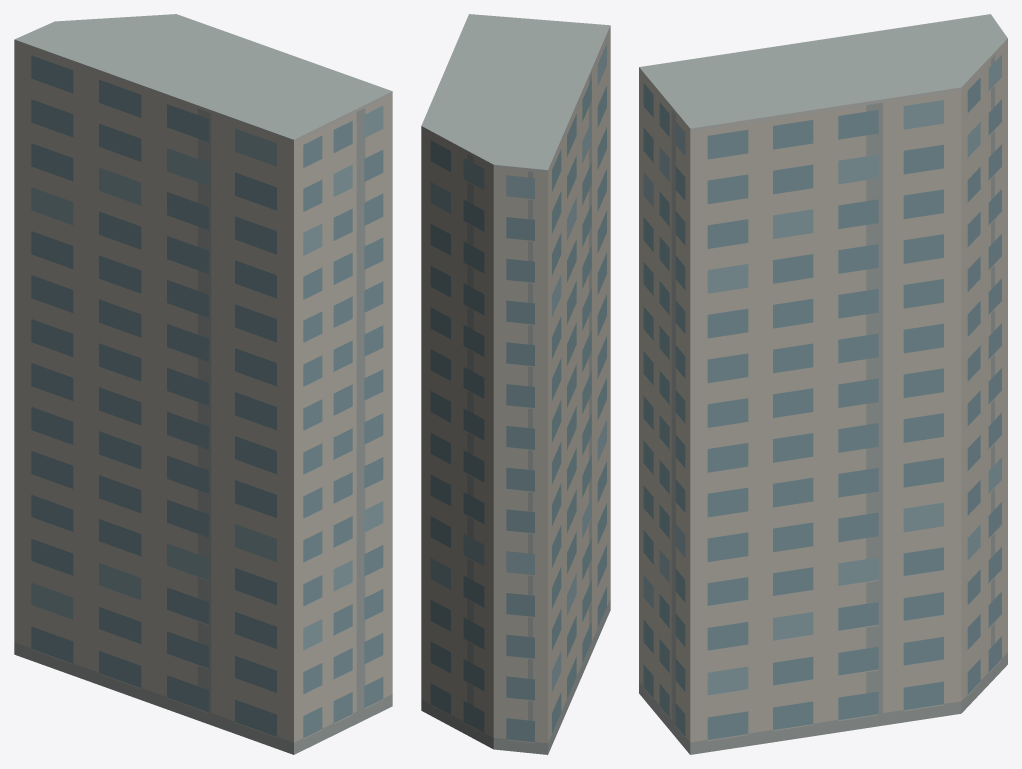
File: residential-97492e92-c806-46fc-a3a3-3e86b2b1cc9d.glb
3 renders of one model, left to right at view 1: azimuth 30°, elevation 25°; view 2: azimuth 150°, elevation 25°; view 3: azimuth 270°, elevation 25°, orthographic. The views are drawn at different scales.
Parts seen in each view (by area): view 1: residential-97492e92-c806-46fc-a3a3-3e86b2b1cc9d.tmp; view 2: residential-97492e92-c806-46fc-a3a3-3e86b2b1cc9d.tmp; view 3: residential-97492e92-c806-46fc-a3a3-3e86b2b1cc9d.tmp.
Boxes of the visible parts, x1,y1,x2,y2 form: residential-97492e92-c806-46fc-a3a3-3e86b2b1cc9d.tmp: [14, 14, 392, 754]; residential-97492e92-c806-46fc-a3a3-3e86b2b1cc9d.tmp: [421, 14, 610, 754]; residential-97492e92-c806-46fc-a3a3-3e86b2b1cc9d.tmp: [639, 14, 1007, 754].
Size of the model in its own units: 18.06 by 46 by 24.56.
